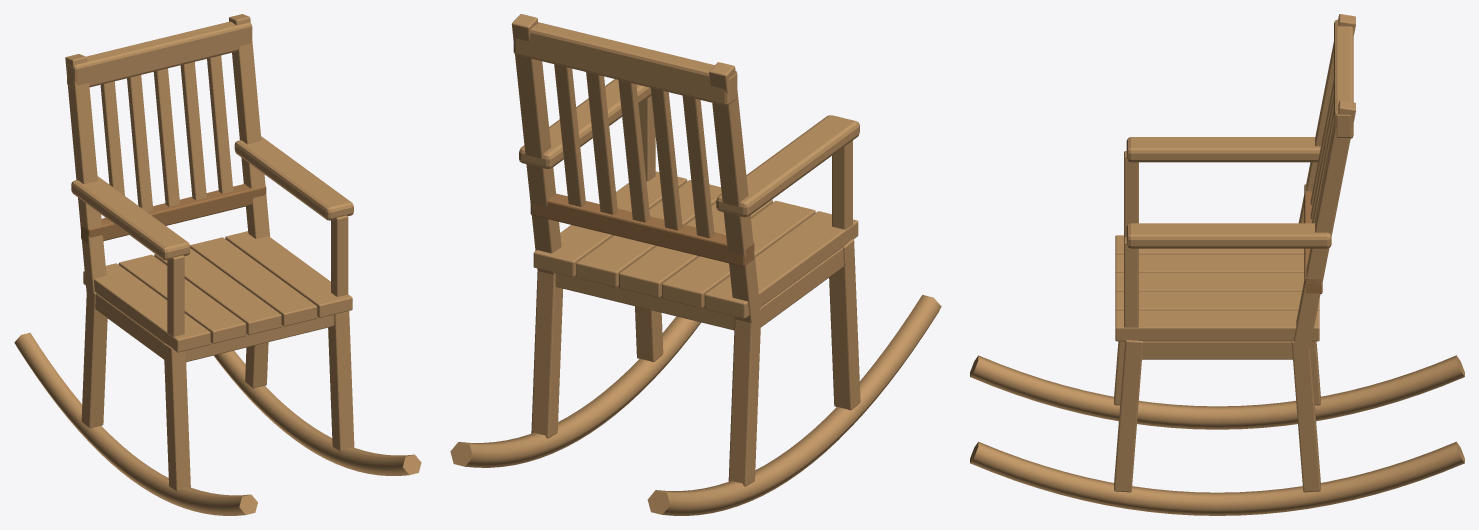
The model's file is chair_rocking.glb.
3 views of the same model, side by side, from view 1: azimuth 30°, elevation 25°; view 2: azimuth 150°, elevation 25°; view 3: azimuth 270°, elevation 25° (orthographic). The views are drawn at different scales.
Visible parts, largest first — view 1: RockingChair_Curved_Runner, RockingChair_Upper_Back_Rail, RockingChair_Curved_Runner.001, RockingChair_Seat_Slat, RockingChair_Back_Post, RockingChair_Seat_Slat.003, RockingChair_Back_Post.001, RockingChair_Armrest, RockingChair_Armrest.001, RockingChair_Seat_Slat.004, RockingChair_Seat_Slat.002, RockingChair_Seat_Slat.001 (+14 smaller); view 2: RockingChair_Curved_Runner, RockingChair_Upper_Back_Rail, RockingChair_Curved_Runner.001, RockingChair_Seat_Slat, RockingChair_Back_Post, RockingChair_Back_Post.001, RockingChair_Lower_Back_Rail, RockingChair_Armrest, RockingChair_Leg.001, RockingChair_Leg.003, RockingChair_Seat_Slat.001, RockingChair_Leg (+14 smaller); view 3: RockingChair_Curved_Runner.001, RockingChair_Curved_Runner, RockingChair_Seat_Slat.004, RockingChair_Armrest.001, RockingChair_Armrest, RockingChair_Back_Post.001, RockingChair_Seat_Slat.003, RockingChair_Seat_Slat.001, RockingChair_Seat_Slat.002, RockingChair_Leg.002, RockingChair_Side_Apron.001, RockingChair_Leg.003 (+6 smaller).
Boxes of the visible parts, box(x1,y1,x2,y2) form: RockingChair_Curved_Runner: box(14, 332, 257, 515); RockingChair_Upper_Back_Rail: box(67, 21, 252, 88); RockingChair_Curved_Runner.001: box(214, 350, 421, 475); RockingChair_Seat_Slat: box(83, 263, 210, 352); RockingChair_Back_Post: box(65, 54, 106, 292); RockingChair_Seat_Slat.003: box(190, 237, 317, 326); RockingChair_Back_Post.001: box(229, 14, 270, 238); RockingChair_Armrest: box(71, 176, 190, 260); RockingChair_Armrest.001: box(234, 136, 353, 220); RockingChair_Seat_Slat.004: box(225, 231, 352, 317); RockingChair_Seat_Slat.002: box(154, 248, 281, 335); RockingChair_Seat_Slat.001: box(118, 254, 246, 343); RockingChair_Curved_Runner: box(647, 295, 941, 515); RockingChair_Upper_Back_Rail: box(513, 22, 737, 105); RockingChair_Curved_Runner.001: box(450, 316, 701, 467); RockingChair_Seat_Slat: box(704, 211, 858, 318); RockingChair_Back_Post: box(709, 62, 760, 323); RockingChair_Back_Post.001: box(511, 14, 561, 275); RockingChair_Lower_Back_Rail: box(530, 193, 754, 266); RockingChair_Armrest: box(716, 115, 859, 217); RockingChair_Leg.001: box(728, 308, 761, 486); RockingChair_Leg.003: box(531, 271, 562, 438); RockingChair_Seat_Slat.001: box(662, 200, 815, 308); RockingChair_Leg: box(829, 239, 860, 410); RockingChair_Curved_Runner.001: box(970, 441, 1464, 515); RockingChair_Curved_Runner: box(970, 355, 1464, 429); RockingChair_Seat_Slat.004: box(1115, 310, 1319, 341); RockingChair_Armrest.001: box(1126, 223, 1331, 248); RockingChair_Armrest: box(1126, 137, 1320, 162); RockingChair_Back_Post.001: box(1294, 100, 1355, 349); RockingChair_Seat_Slat.003: box(1115, 291, 1319, 310); RockingChair_Seat_Slat.001: box(1115, 254, 1304, 273); RockingChair_Seat_Slat.002: box(1115, 273, 1304, 291); RockingChair_Leg.002: box(1114, 340, 1143, 492); RockingChair_Side_Apron.001: box(1142, 341, 1292, 359); RockingChair_Leg.003: box(1291, 341, 1320, 492).
Size of the model in its own units: 0.549 by 1.04 by 1.14.
